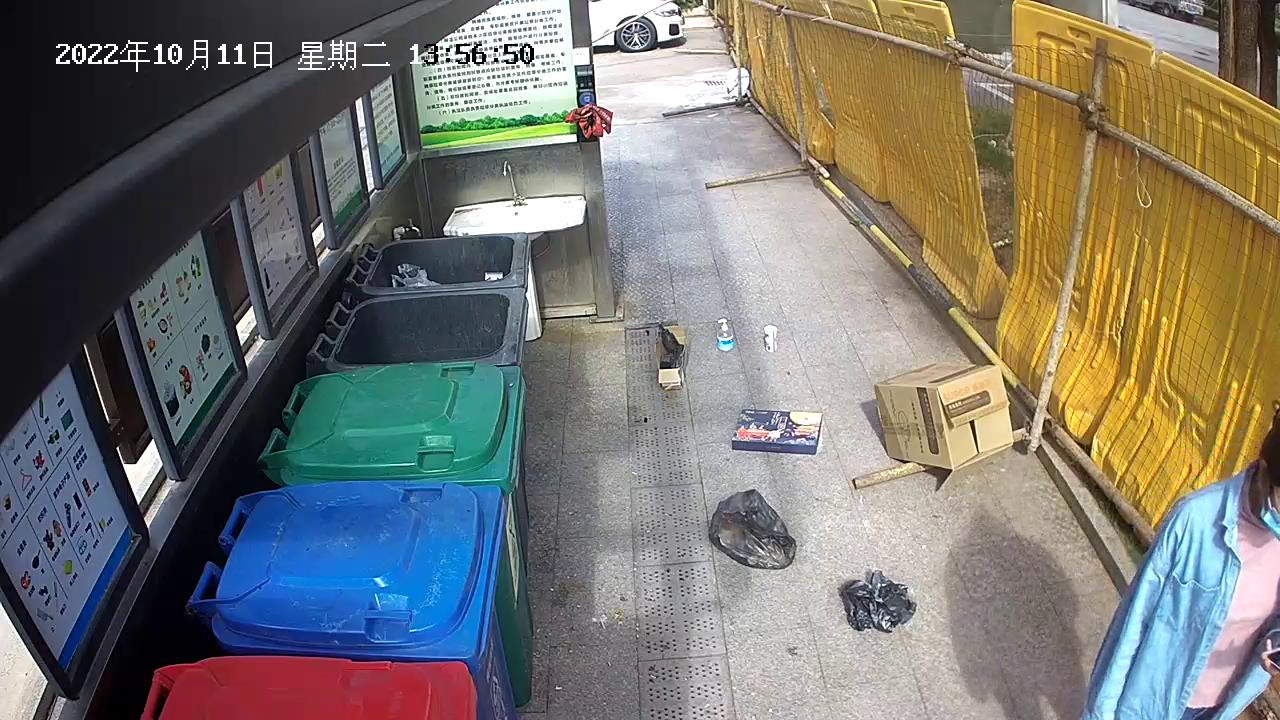garbage-bag: (702, 484, 803, 574), (837, 566, 927, 642)
lvzhipin: (760, 320, 785, 358)
suliaozhipin: (712, 312, 736, 356)
zhizhipin: (870, 356, 1019, 492), (727, 403, 829, 460)
